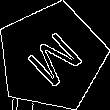M_SE: (17, 23, 86, 92)
